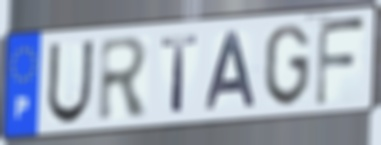A: (203, 29, 259, 113)
F: (313, 15, 368, 109)
G: (262, 21, 311, 109)
R: (96, 34, 151, 125)
T: (159, 32, 201, 116)
U: (44, 38, 96, 127)
